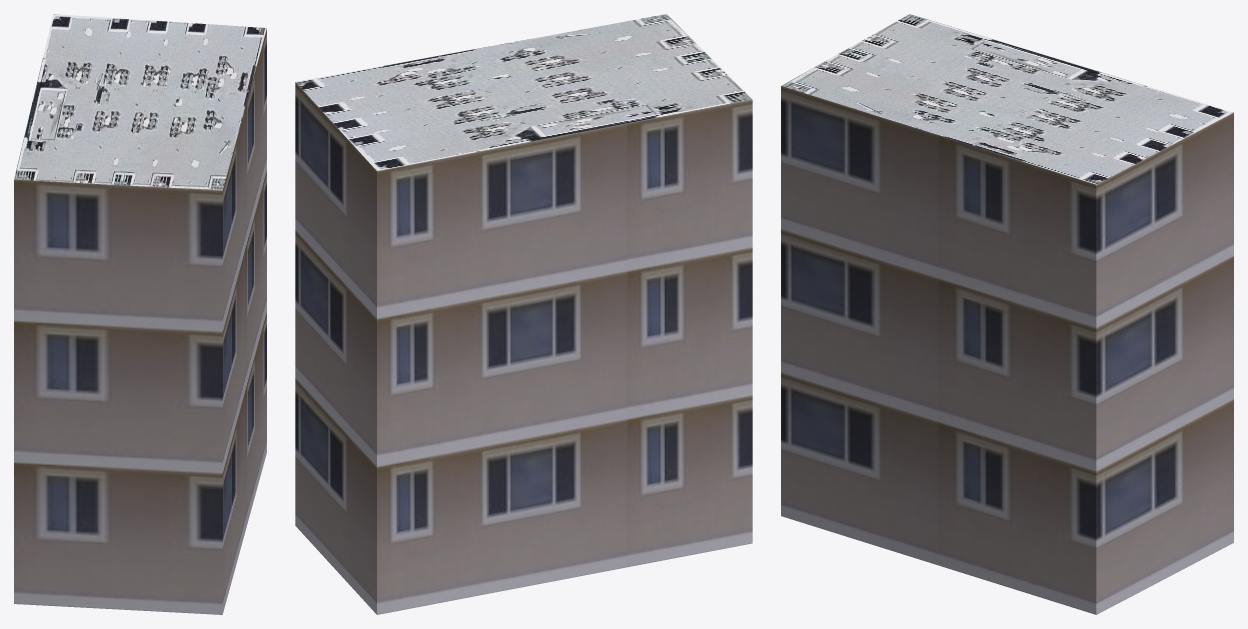
Rendered from ResTex__4700.fbx.
3 renders of one model, left to right at view 1: azimuth 30°, elevation 25°; view 2: azimuth 150°, elevation 25°; view 3: azimuth 270°, elevation 25°, orthographic. The views are drawn at different scales.
Visible parts, largest first — view 1: CityEngineMaterial_21_m, CityEngineMaterial_m; view 2: CityEngineMaterial_21_m, CityEngineMaterial_m; view 3: CityEngineMaterial_21_m, CityEngineMaterial_m.
Boxes of the visible parts, <box> form: CityEngineMaterial_21_m: <box>14,29,266,614</box>; CityEngineMaterial_m: <box>14,14,266,190</box>; CityEngineMaterial_21_m: <box>295,82,752,614</box>; CityEngineMaterial_m: <box>296,14,751,170</box>; CityEngineMaterial_21_m: <box>781,86,1233,614</box>; CityEngineMaterial_m: <box>781,14,1233,184</box>.
Size of the model in its own units: 7.66 by 9 by 8.58.
Materials: 2 (2 with a texture image).
